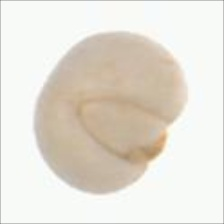L5: (72, 94, 170, 166), (36, 57, 71, 107)
L6: (28, 29, 191, 196)
